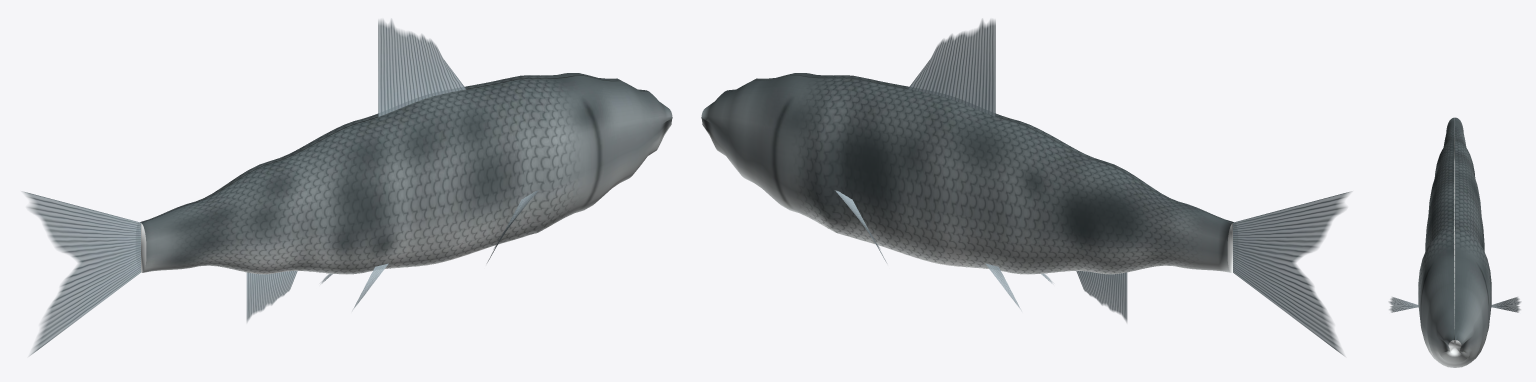
The model's file is dongpeshona.glb.
3 renders of one model, left to right at view 1: azimuth 30°, elevation 25°; view 2: azimuth 150°, elevation 25°; view 3: azimuth 270°, elevation 25°, orthographic. The views are drawn at different scales.
Parts seen in each view (by area): view 1: dongpeshona; view 2: dongpeshona; view 3: dongpeshona.
Boxes of the visible parts, bbox=[...] form: dongpeshona: bbox=[22, 19, 672, 355]; dongpeshona: bbox=[701, 19, 1351, 355]; dongpeshona: bbox=[1389, 117, 1520, 367].
Bounding box in the file's own units: 0.744 × 0.3032 × 0.1608.
Materials: 1 (1 with a texture image).
